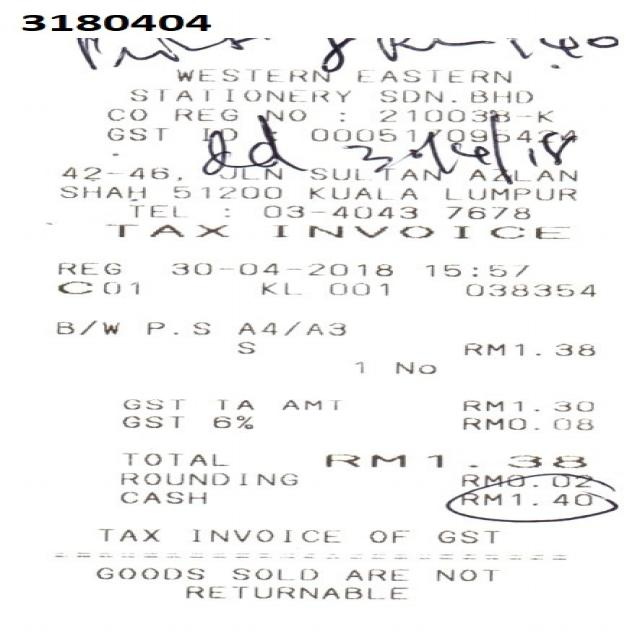text: (272, 224, 566, 238), (17, 10, 207, 31), (307, 127, 574, 141), (169, 262, 390, 275), (185, 585, 406, 598), (130, 88, 348, 101), (378, 108, 550, 122), (173, 68, 328, 82), (262, 204, 416, 218), (324, 453, 476, 467), (120, 473, 296, 485), (192, 529, 338, 543), (356, 69, 508, 82), (458, 492, 602, 505), (459, 342, 591, 356), (308, 166, 439, 180), (464, 282, 591, 296), (461, 416, 589, 429), (58, 166, 179, 179), (458, 473, 589, 485), (104, 223, 224, 236), (445, 188, 574, 200), (309, 185, 416, 199), (235, 320, 341, 334), (169, 185, 280, 198), (462, 400, 591, 411), (59, 184, 144, 200), (468, 168, 575, 180), (94, 567, 199, 579), (425, 264, 527, 276), (127, 452, 225, 464), (53, 280, 136, 293), (120, 491, 205, 503), (506, 454, 584, 467), (445, 206, 529, 218), (232, 568, 316, 580), (380, 89, 455, 102), (468, 89, 532, 103), (55, 320, 118, 334), (434, 530, 498, 543), (434, 568, 496, 581), (146, 320, 207, 333), (345, 567, 406, 580), (58, 261, 120, 273), (173, 108, 234, 120), (218, 167, 279, 179), (325, 282, 386, 294), (107, 127, 163, 140), (120, 415, 180, 427), (97, 528, 157, 540), (121, 398, 180, 408), (282, 399, 340, 409), (212, 414, 252, 428), (257, 281, 298, 294), (261, 109, 305, 121), (133, 204, 173, 217), (367, 529, 406, 542), (394, 360, 434, 372), (198, 127, 234, 140), (106, 108, 144, 120), (211, 398, 251, 408), (237, 342, 253, 354), (354, 360, 363, 372)
